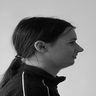ear: (30, 37, 52, 57)
